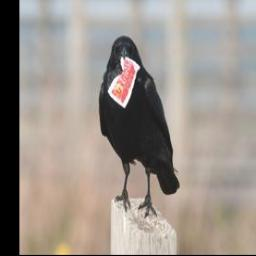Crow: (97, 34, 180, 220)
